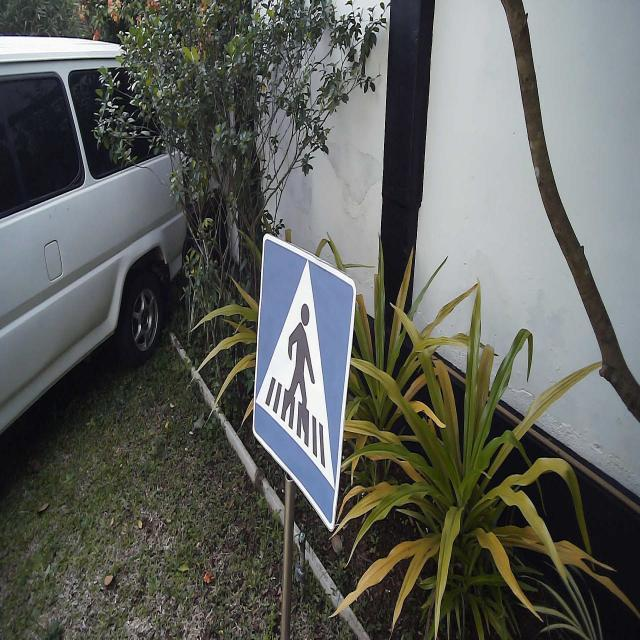crosswalk_sign: (252, 230, 358, 535)
